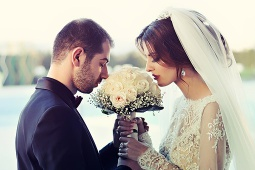female: (138, 23, 183, 92)
male: (71, 22, 113, 99)
